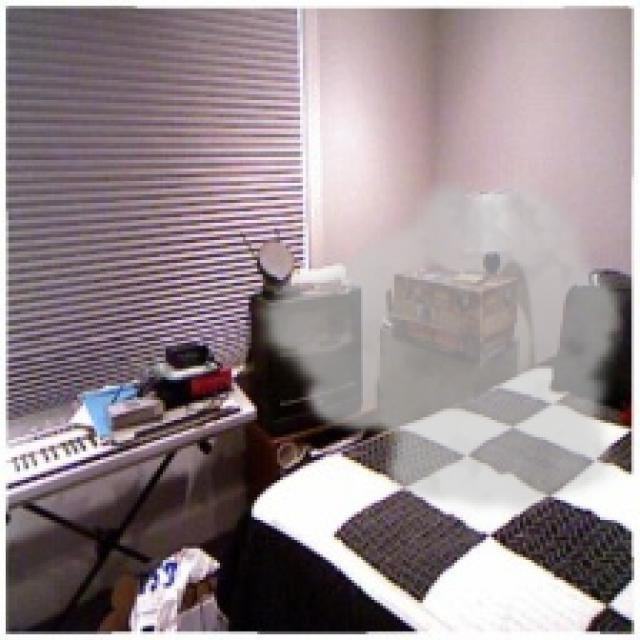Smoke: (248, 168, 628, 518)
